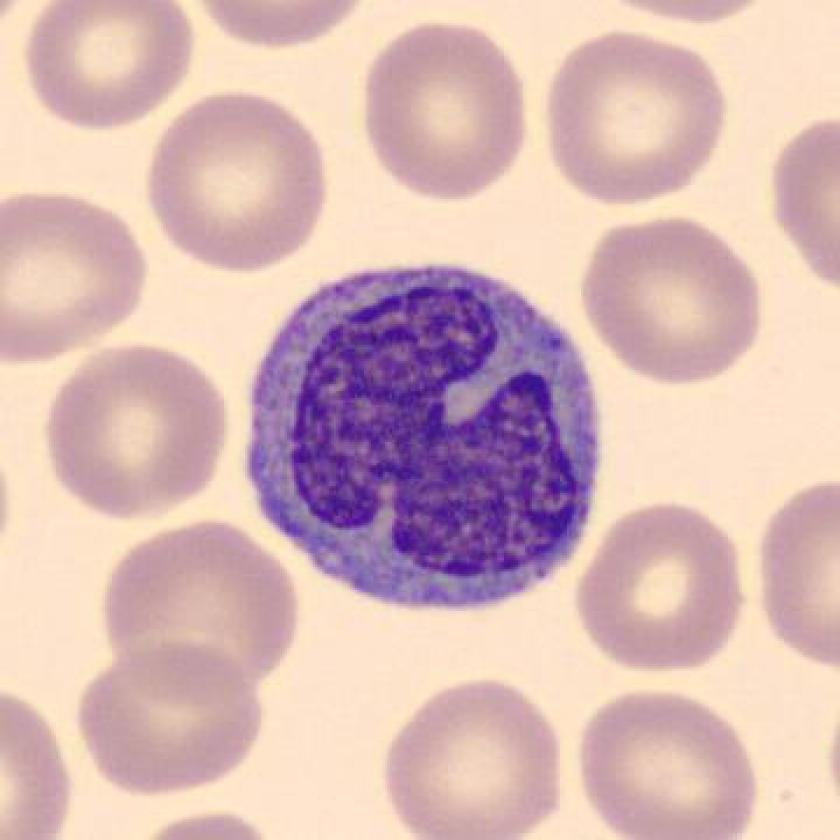monocyte: (223, 251, 626, 626)
